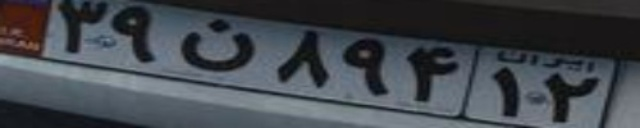1: (488, 64, 519, 117)
2: (544, 72, 599, 124)
3: (55, 0, 108, 57)
4: (402, 44, 460, 103)
8: (274, 30, 326, 89)
9: (339, 36, 388, 95), (109, 4, 156, 65)
non: (176, 16, 255, 72)
